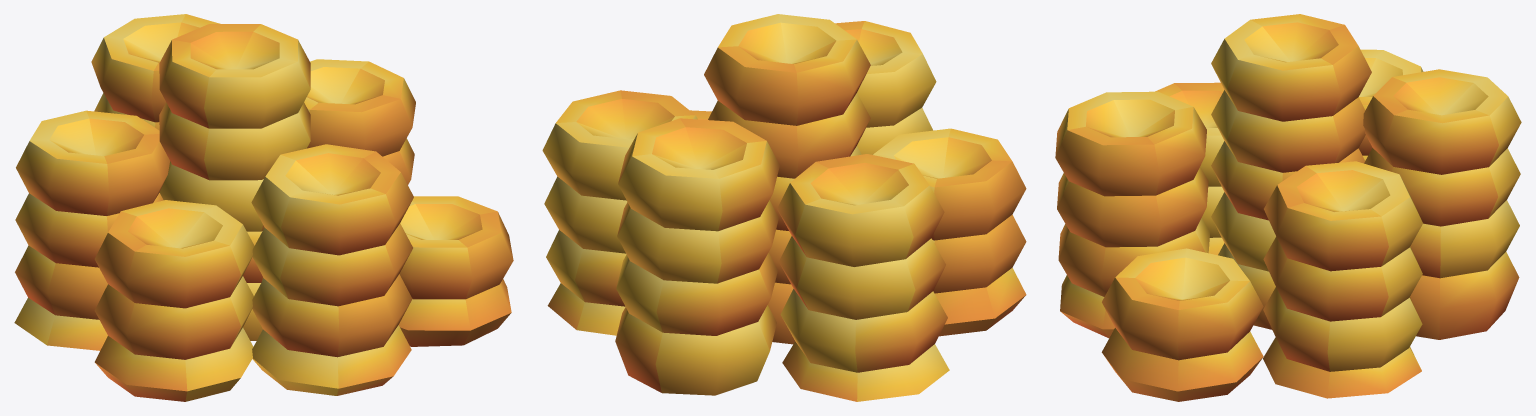
Rendered from coin_stack_medium.glb.
3 renders of one model, left to right at view 1: azimuth 30°, elevation 25°; view 2: azimuth 150°, elevation 25°; view 3: azimuth 270°, elevation 25°, orthographic. The views are drawn at different scales.
Visible parts, largest first — view 1: coin_stack_medium; view 2: coin_stack_medium; view 3: coin_stack_medium.
Part boxes in pixels (box(x1,y1,x2,y2)): coin_stack_medium: box(14, 14, 513, 401); coin_stack_medium: box(542, 14, 1026, 401); coin_stack_medium: box(1055, 14, 1521, 401).
Bounding box in the file's own units: 0.9933 × 0.6407 × 1.03.
Materials: 1 (1 with a texture image).
